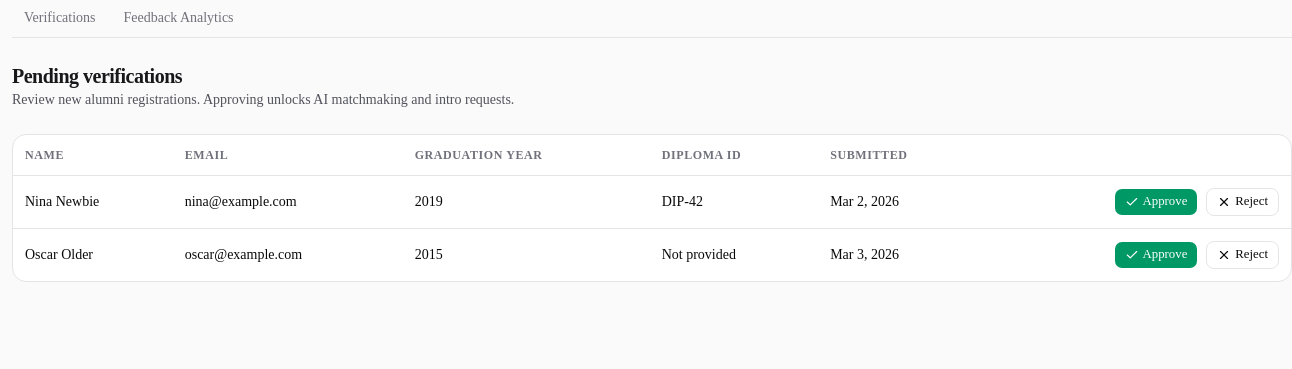
Test case: Verifications › puts the row back in order and shows the error when the decision fails
Click the button with aria-label "Approve Nina Newbie".
click(1156, 202)  # box [1114,188,1198,216]
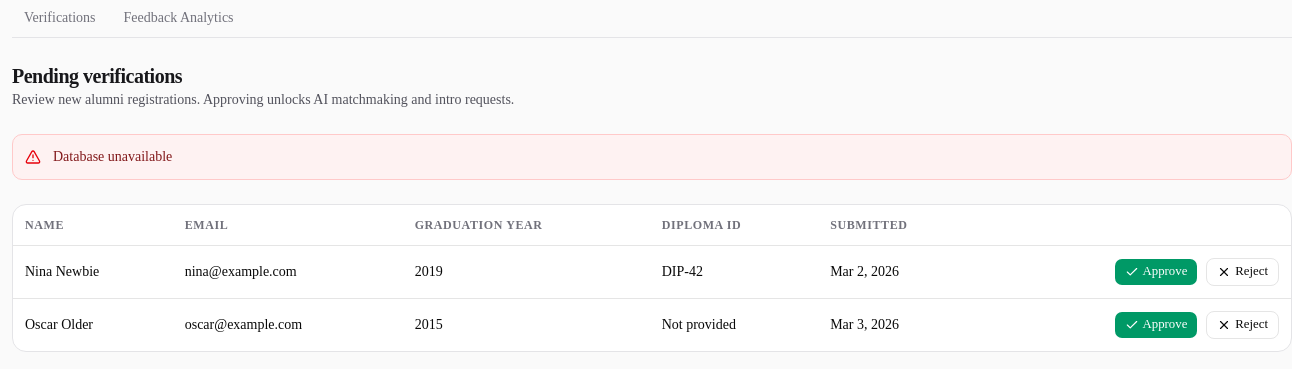
Check: the row that starts with "Nina Newbie" is shown, box [25,264,99,278]
Check: the message reads "Database unavailable", box [53,149,172,164]
